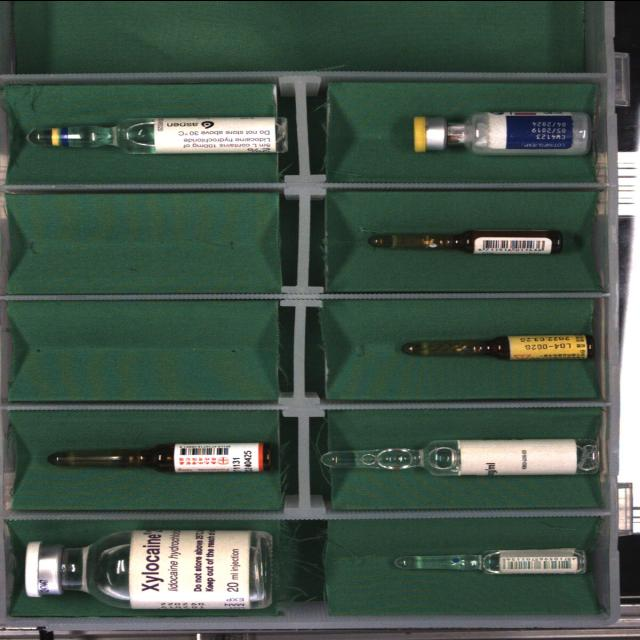Vials: (25, 529, 271, 609), (413, 111, 590, 154)
